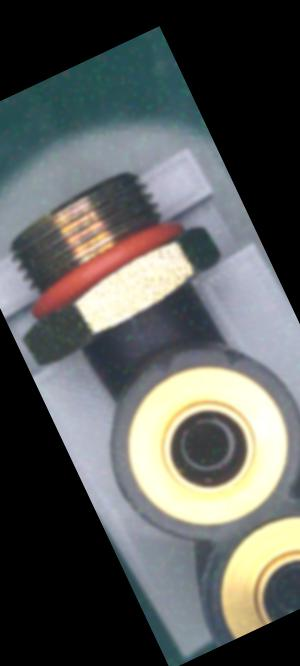bump: (212, 331, 251, 372), (145, 346, 186, 380)
joint line: (142, 333, 160, 354)
white mark: (124, 310, 147, 337)
